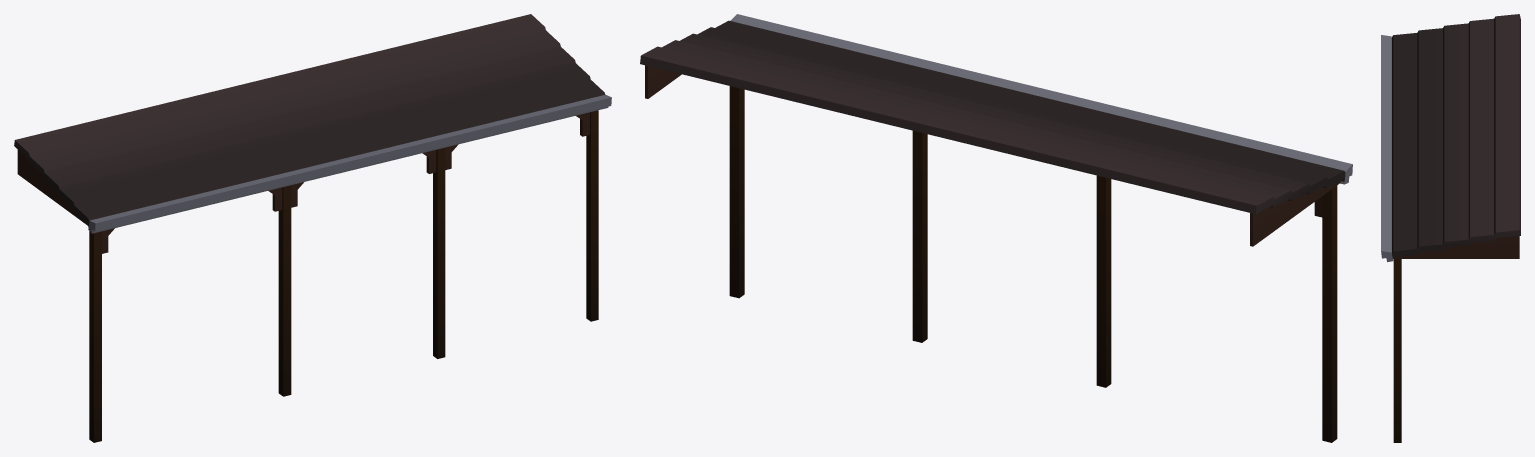
The model's file is Awning 8M.glb.
3 renders of one model, left to right at view 1: azimuth 30°, elevation 25°; view 2: azimuth 150°, elevation 25°; view 3: azimuth 270°, elevation 25°, orthographic. The views are drawn at different scales.
Visible parts, largest first — view 1: awning 8M; view 2: awning 8M; view 3: awning 8M.
Boxes of the visible parts, x1,y1,x2,y2 form: awning 8M: (14,14,611,442); awning 8M: (640,14,1352,442); awning 8M: (1381,14,1520,442).
Size of what is drawn, in the model's own units: 8 by 3.71 by 2.19.
Materials: 1 (1 with a texture image).
